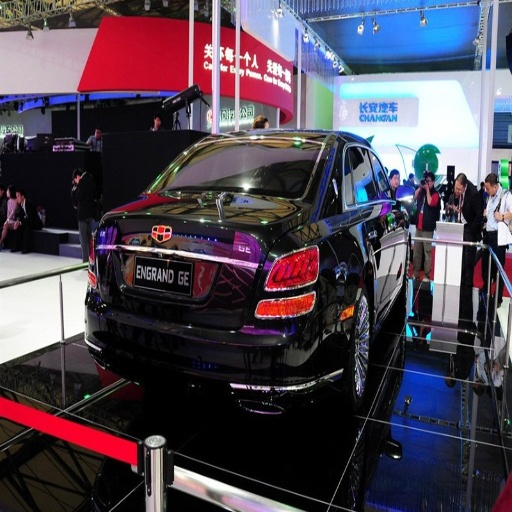back_bumper: (94, 286, 352, 447)
back_glass: (166, 145, 310, 196)
tailgate: (153, 189, 294, 325)
trunk: (101, 197, 256, 316), (438, 75, 476, 121)
